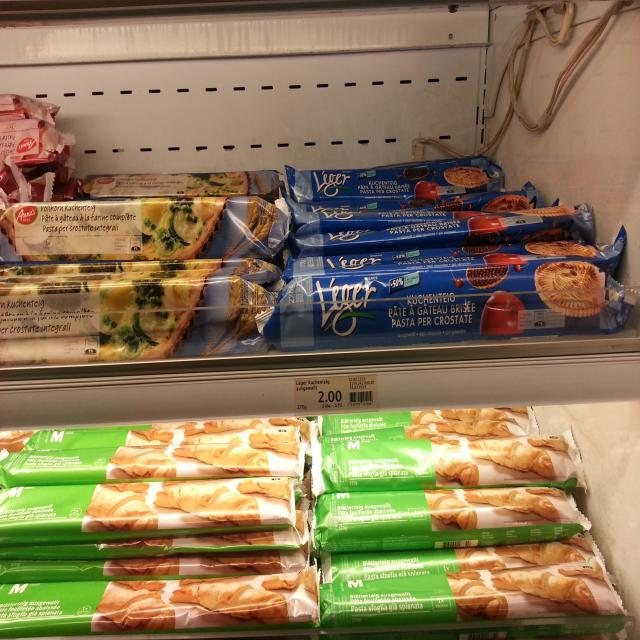Bakery: (324, 519, 628, 640), (279, 256, 640, 352), (0, 254, 280, 357), (0, 575, 325, 640), (0, 481, 305, 549), (311, 432, 586, 506), (4, 197, 296, 266), (314, 490, 602, 556), (3, 429, 316, 480), (280, 152, 509, 215), (290, 229, 629, 270), (73, 169, 288, 213)
